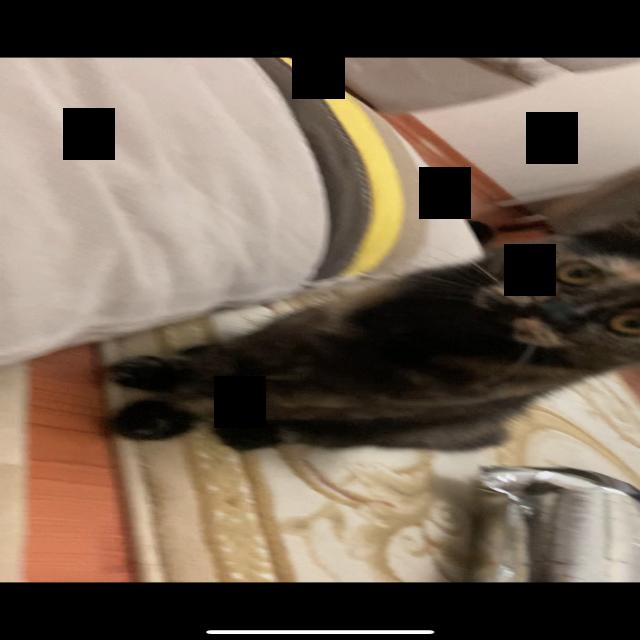authorized: (99, 217, 638, 453)
